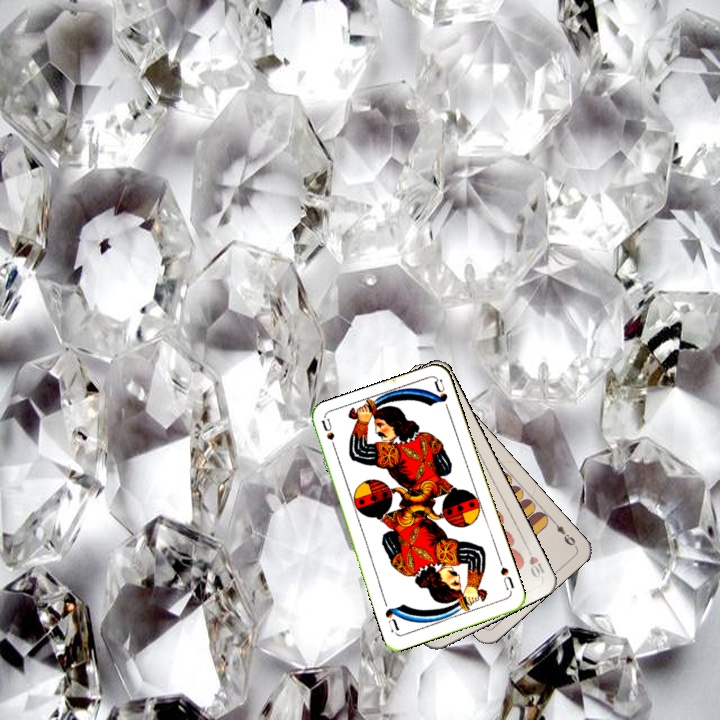E9: (548, 516, 578, 549)
H10: (522, 542, 547, 580)
SU: (318, 416, 340, 456), (495, 556, 517, 593)
